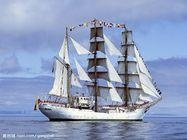fanchuan: (31, 16, 163, 122)
